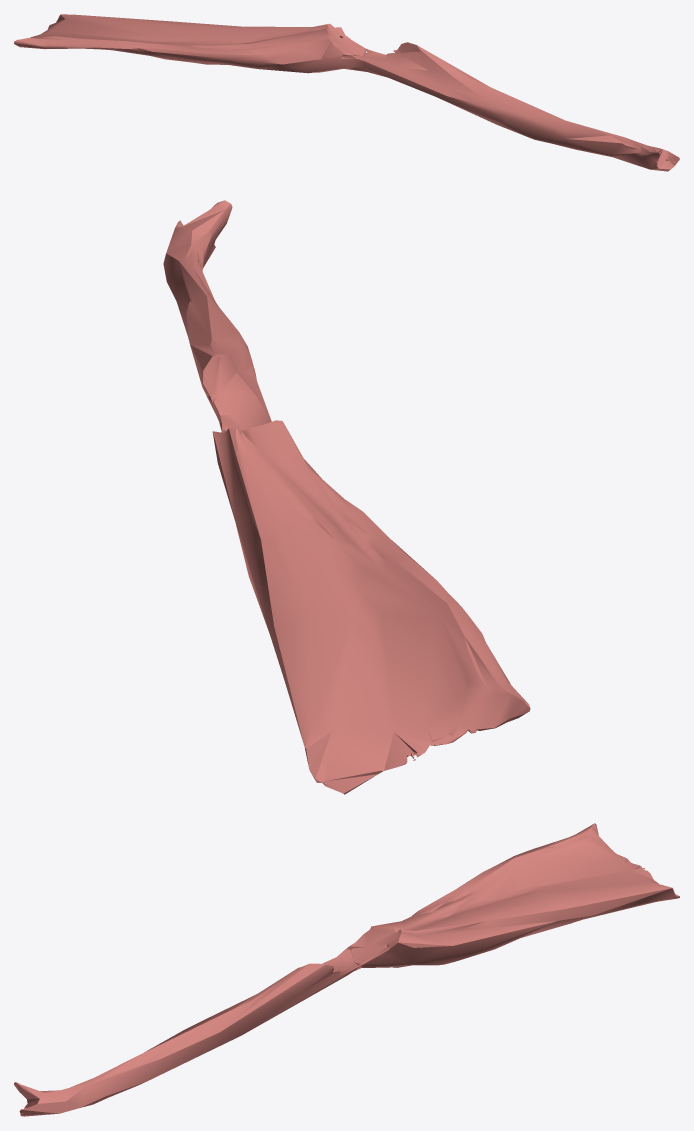
File: fma37464_fj1390m.glb
The picture shows the model from 3 angles, top to bottom: view 1: azimuth 30°, elevation 25°; view 2: azimuth 150°, elevation 25°; view 3: azimuth 270°, elevation 25°; orthographic projection. The views are drawn at different scales.
Parts seen in each view (by area): view 1: FMA37464_FJ1390M; view 2: FMA37464_FJ1390M; view 3: FMA37464_FJ1390M.
Boxes of the visible parts, bbox=[...] form: FMA37464_FJ1390M: bbox=[14, 14, 679, 171]; FMA37464_FJ1390M: bbox=[163, 200, 530, 794]; FMA37464_FJ1390M: bbox=[14, 823, 679, 1116].
Size of the model in its own units: 0.0932 by 0.016 by 0.1091.
